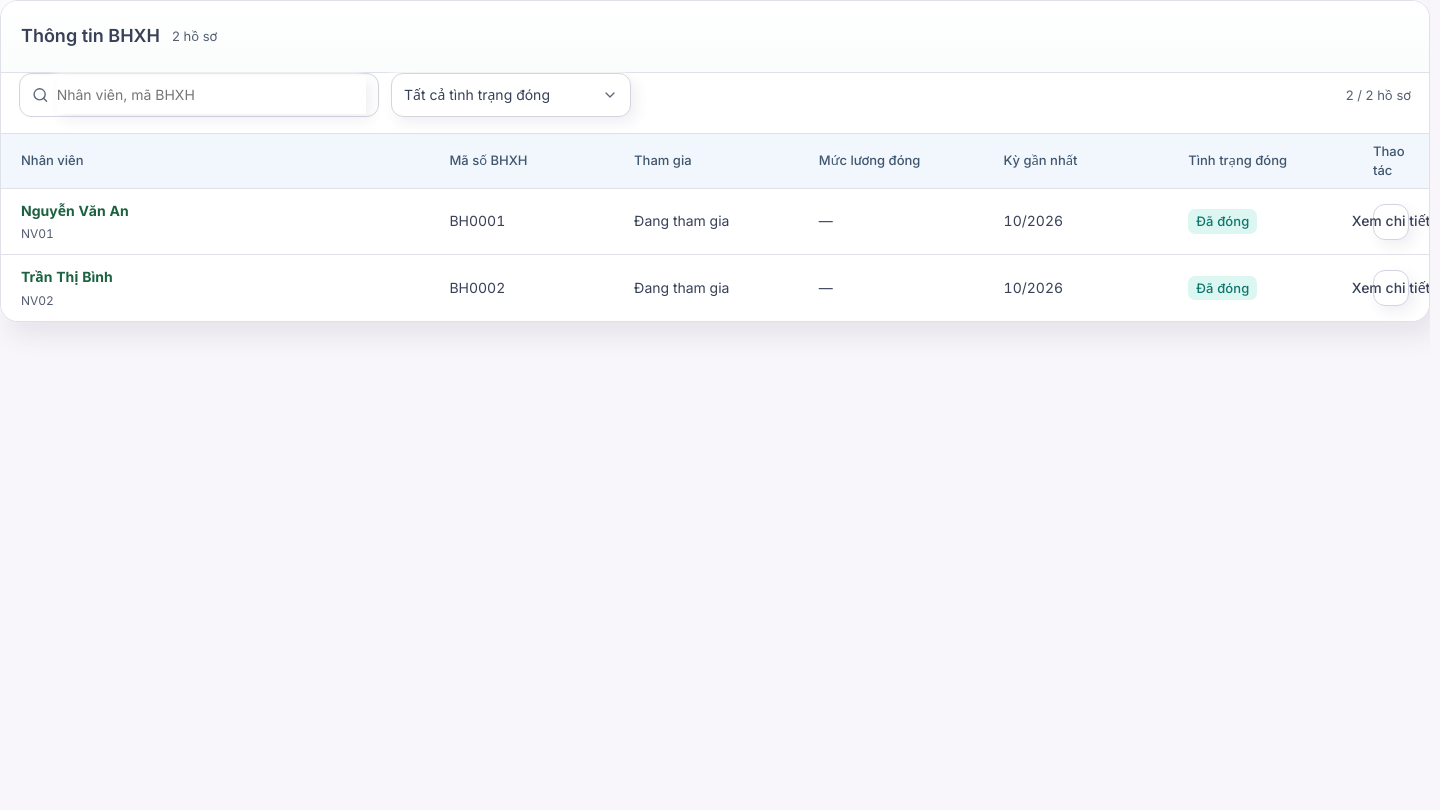
Scenario: insurance history UI › opens the selected person directly and preserves the list filter after closing
Expected: the button with aria-label "Xem BHXH của Trần Thị Bình" is shown, [21,263,113,313]
Type "Bình" into the search field.
click(211, 95); type("Bình")  # box [57,76,366,114]
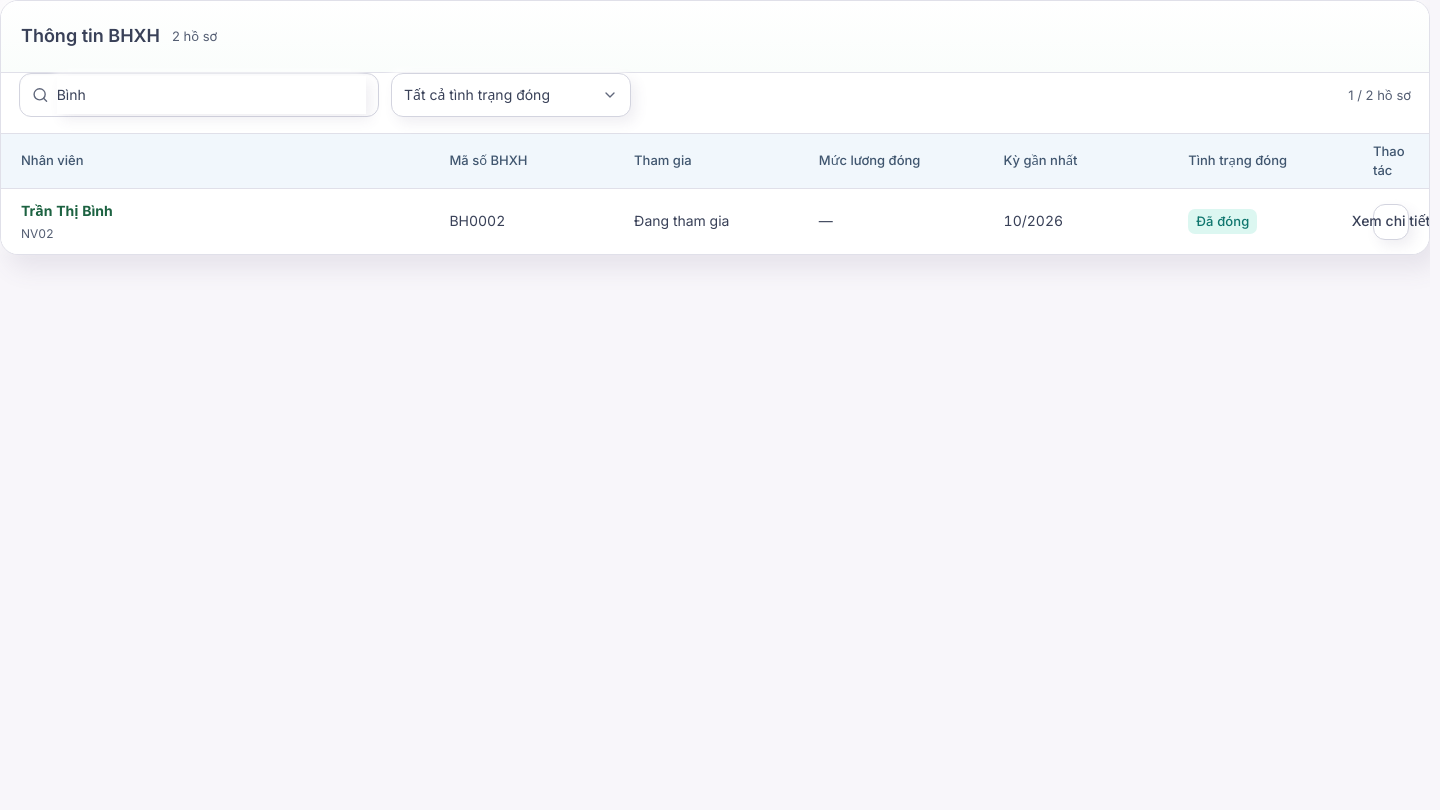
Click the button with aria-label "Xem BHXH của Trần Thị Bình".
click(67, 222)  # box [21,197,113,246]
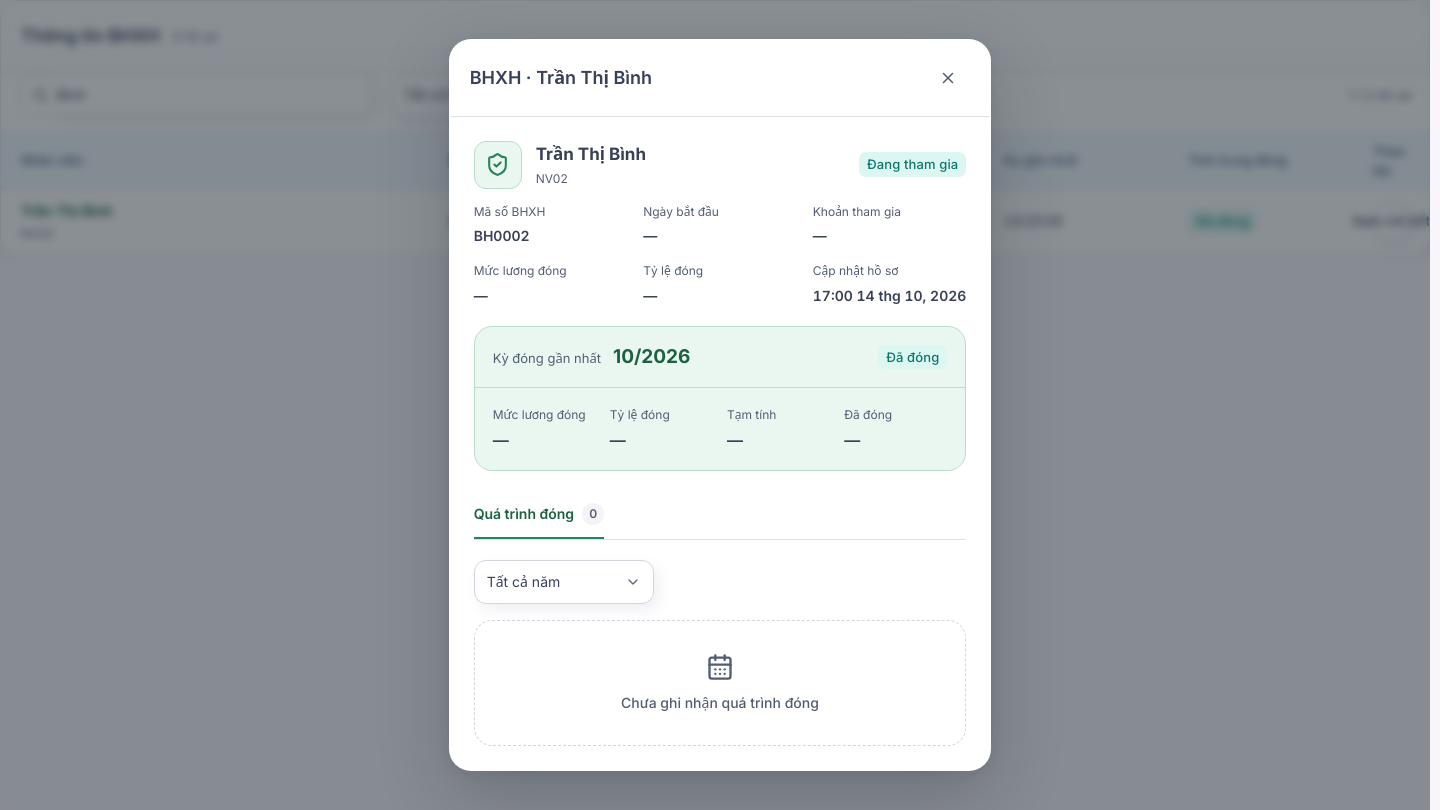
Click the button named "Đóng".
click(948, 78)  # box [926,56,970,100]
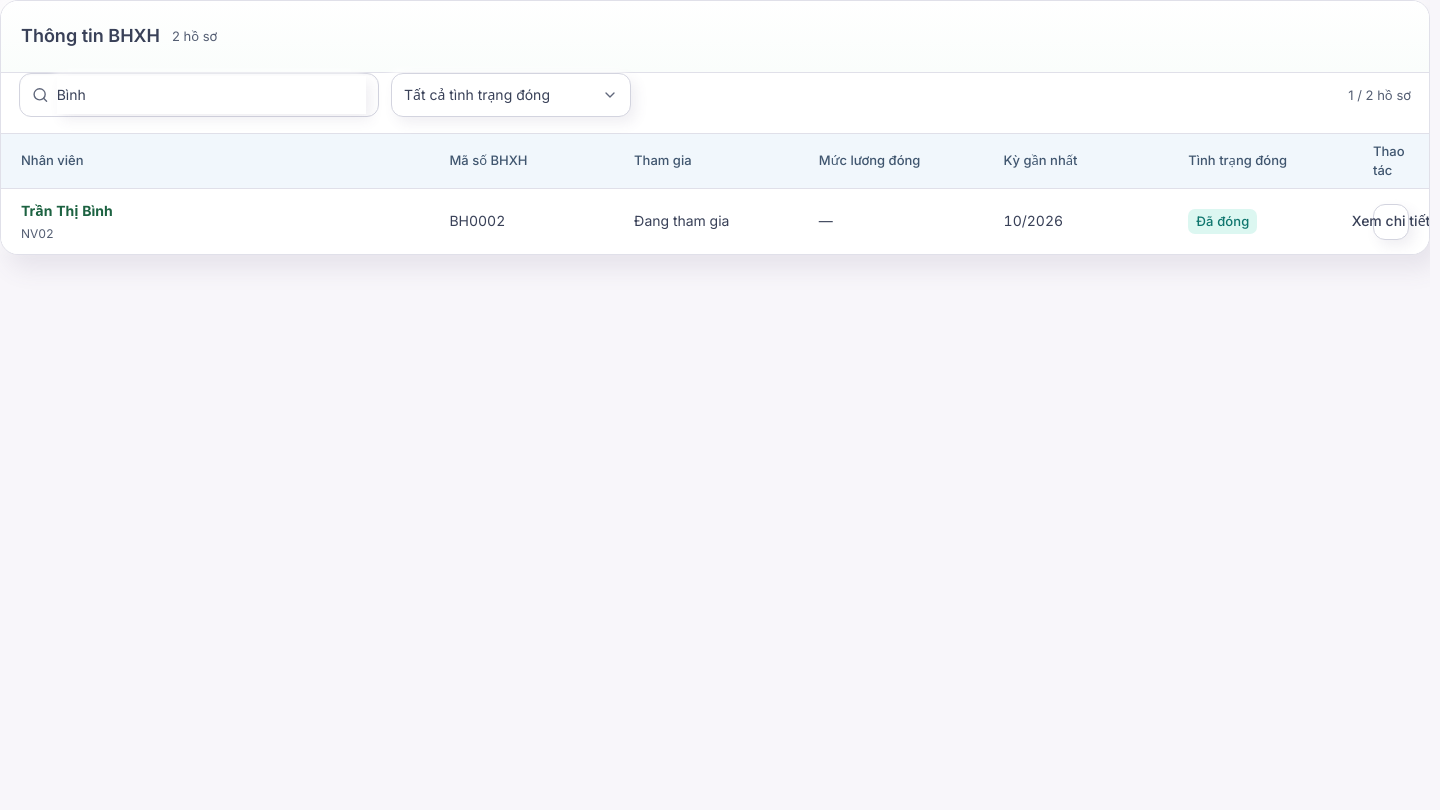
Expected: the dialog is gone
